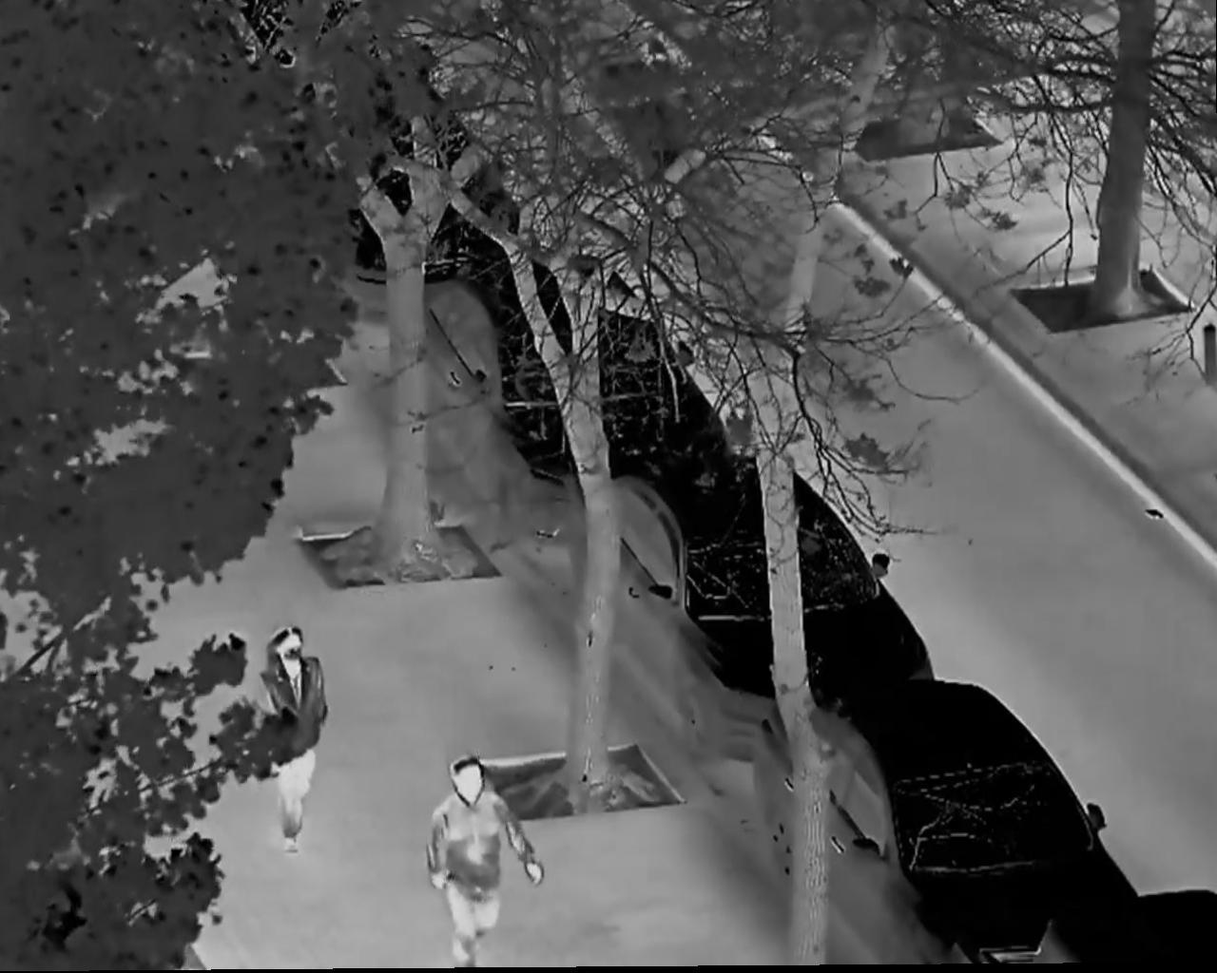person: (421, 758, 549, 969), (254, 626, 329, 858)
